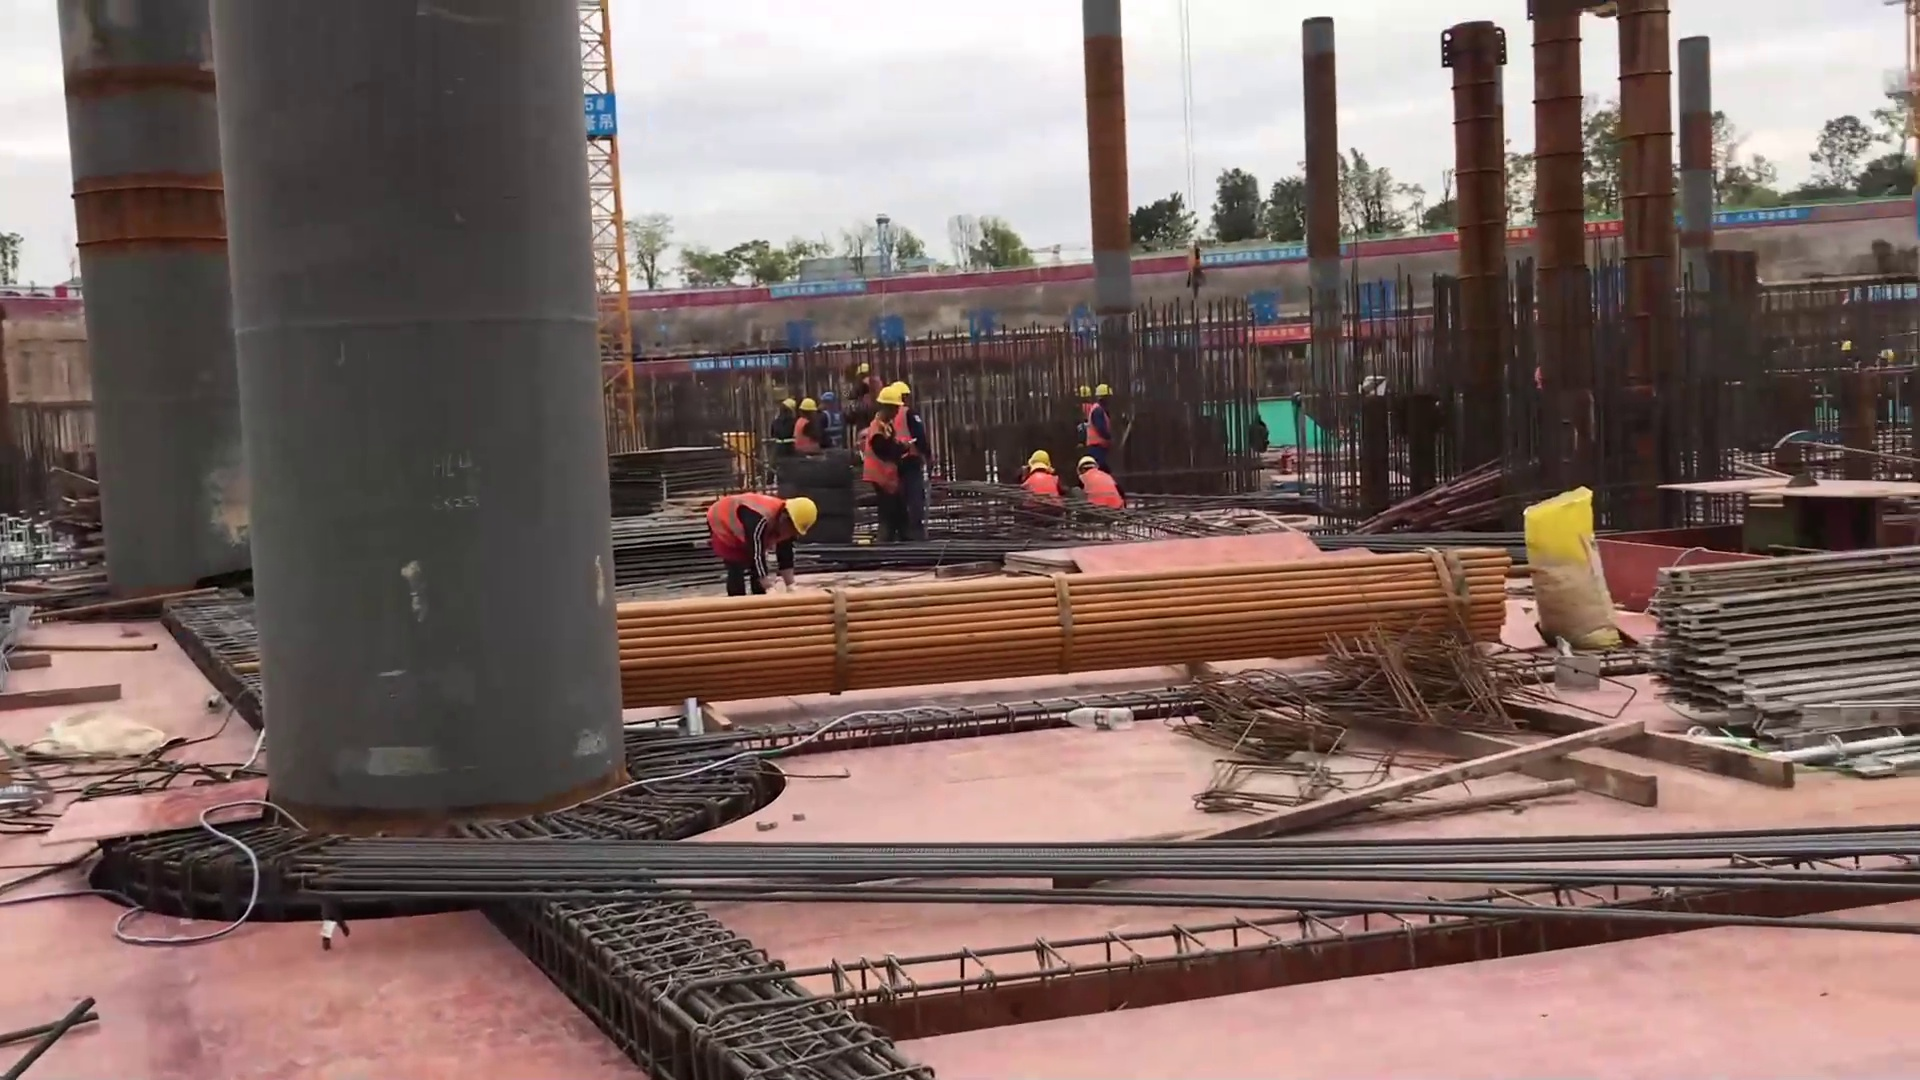board: (615, 445, 738, 513)
cutter: (1689, 426, 1903, 559)
ebox: (726, 436, 758, 469)
helmet: (791, 496, 814, 538), (1033, 447, 1055, 470), (892, 379, 916, 396), (883, 384, 903, 404), (1077, 454, 1099, 468), (1879, 346, 1896, 363), (799, 397, 820, 409), (1094, 385, 1114, 397), (783, 394, 798, 410), (1079, 383, 1092, 398), (1839, 339, 1854, 351), (858, 362, 871, 374), (818, 394, 840, 401)
hook: (1185, 240, 1205, 291)
person: (704, 478, 820, 592), (890, 374, 930, 529), (865, 388, 898, 523), (1068, 454, 1125, 523), (1083, 383, 1122, 467), (1016, 447, 1066, 512), (844, 358, 882, 399), (791, 394, 819, 446), (818, 387, 842, 437), (1071, 377, 1091, 420), (774, 398, 795, 433)
rebar: (282, 812, 1920, 977), (1315, 517, 1606, 561), (818, 534, 1005, 556)
vest: (706, 491, 789, 561), (1078, 471, 1120, 512), (866, 420, 892, 484), (898, 407, 927, 459), (1093, 405, 1114, 451), (1028, 474, 1059, 499), (794, 418, 816, 451), (775, 414, 795, 451), (821, 410, 841, 437), (862, 381, 881, 409), (1077, 398, 1090, 433)
